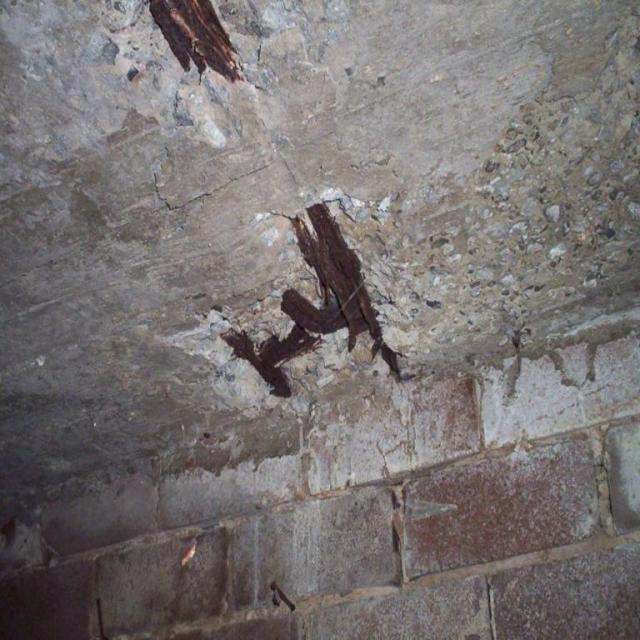spalling: (216, 196, 405, 400), (145, 0, 245, 81)
